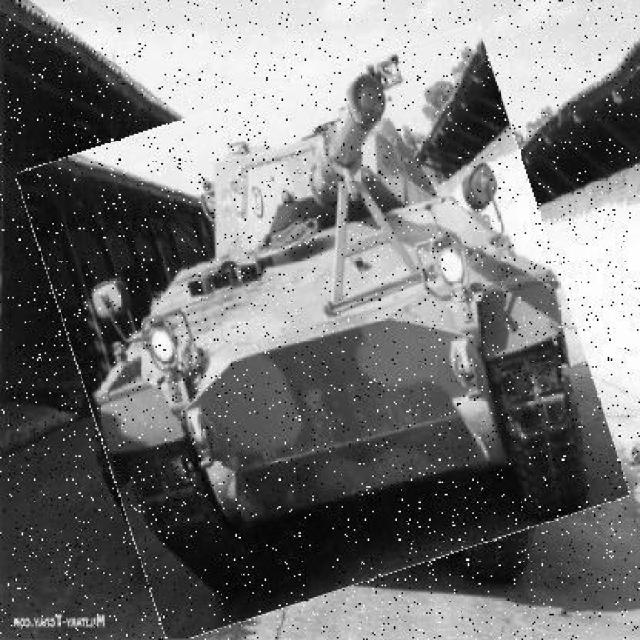Tank: (49, 58, 600, 615)
